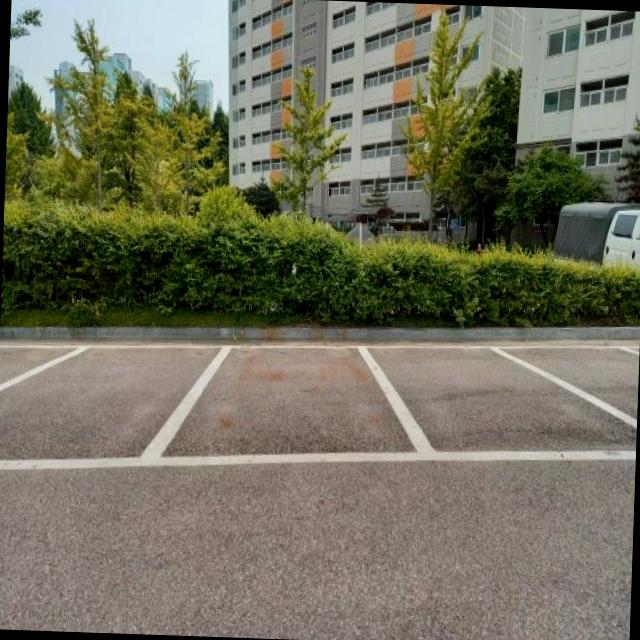free: (189, 342, 420, 480), (0, 336, 187, 484), (394, 338, 568, 472)
